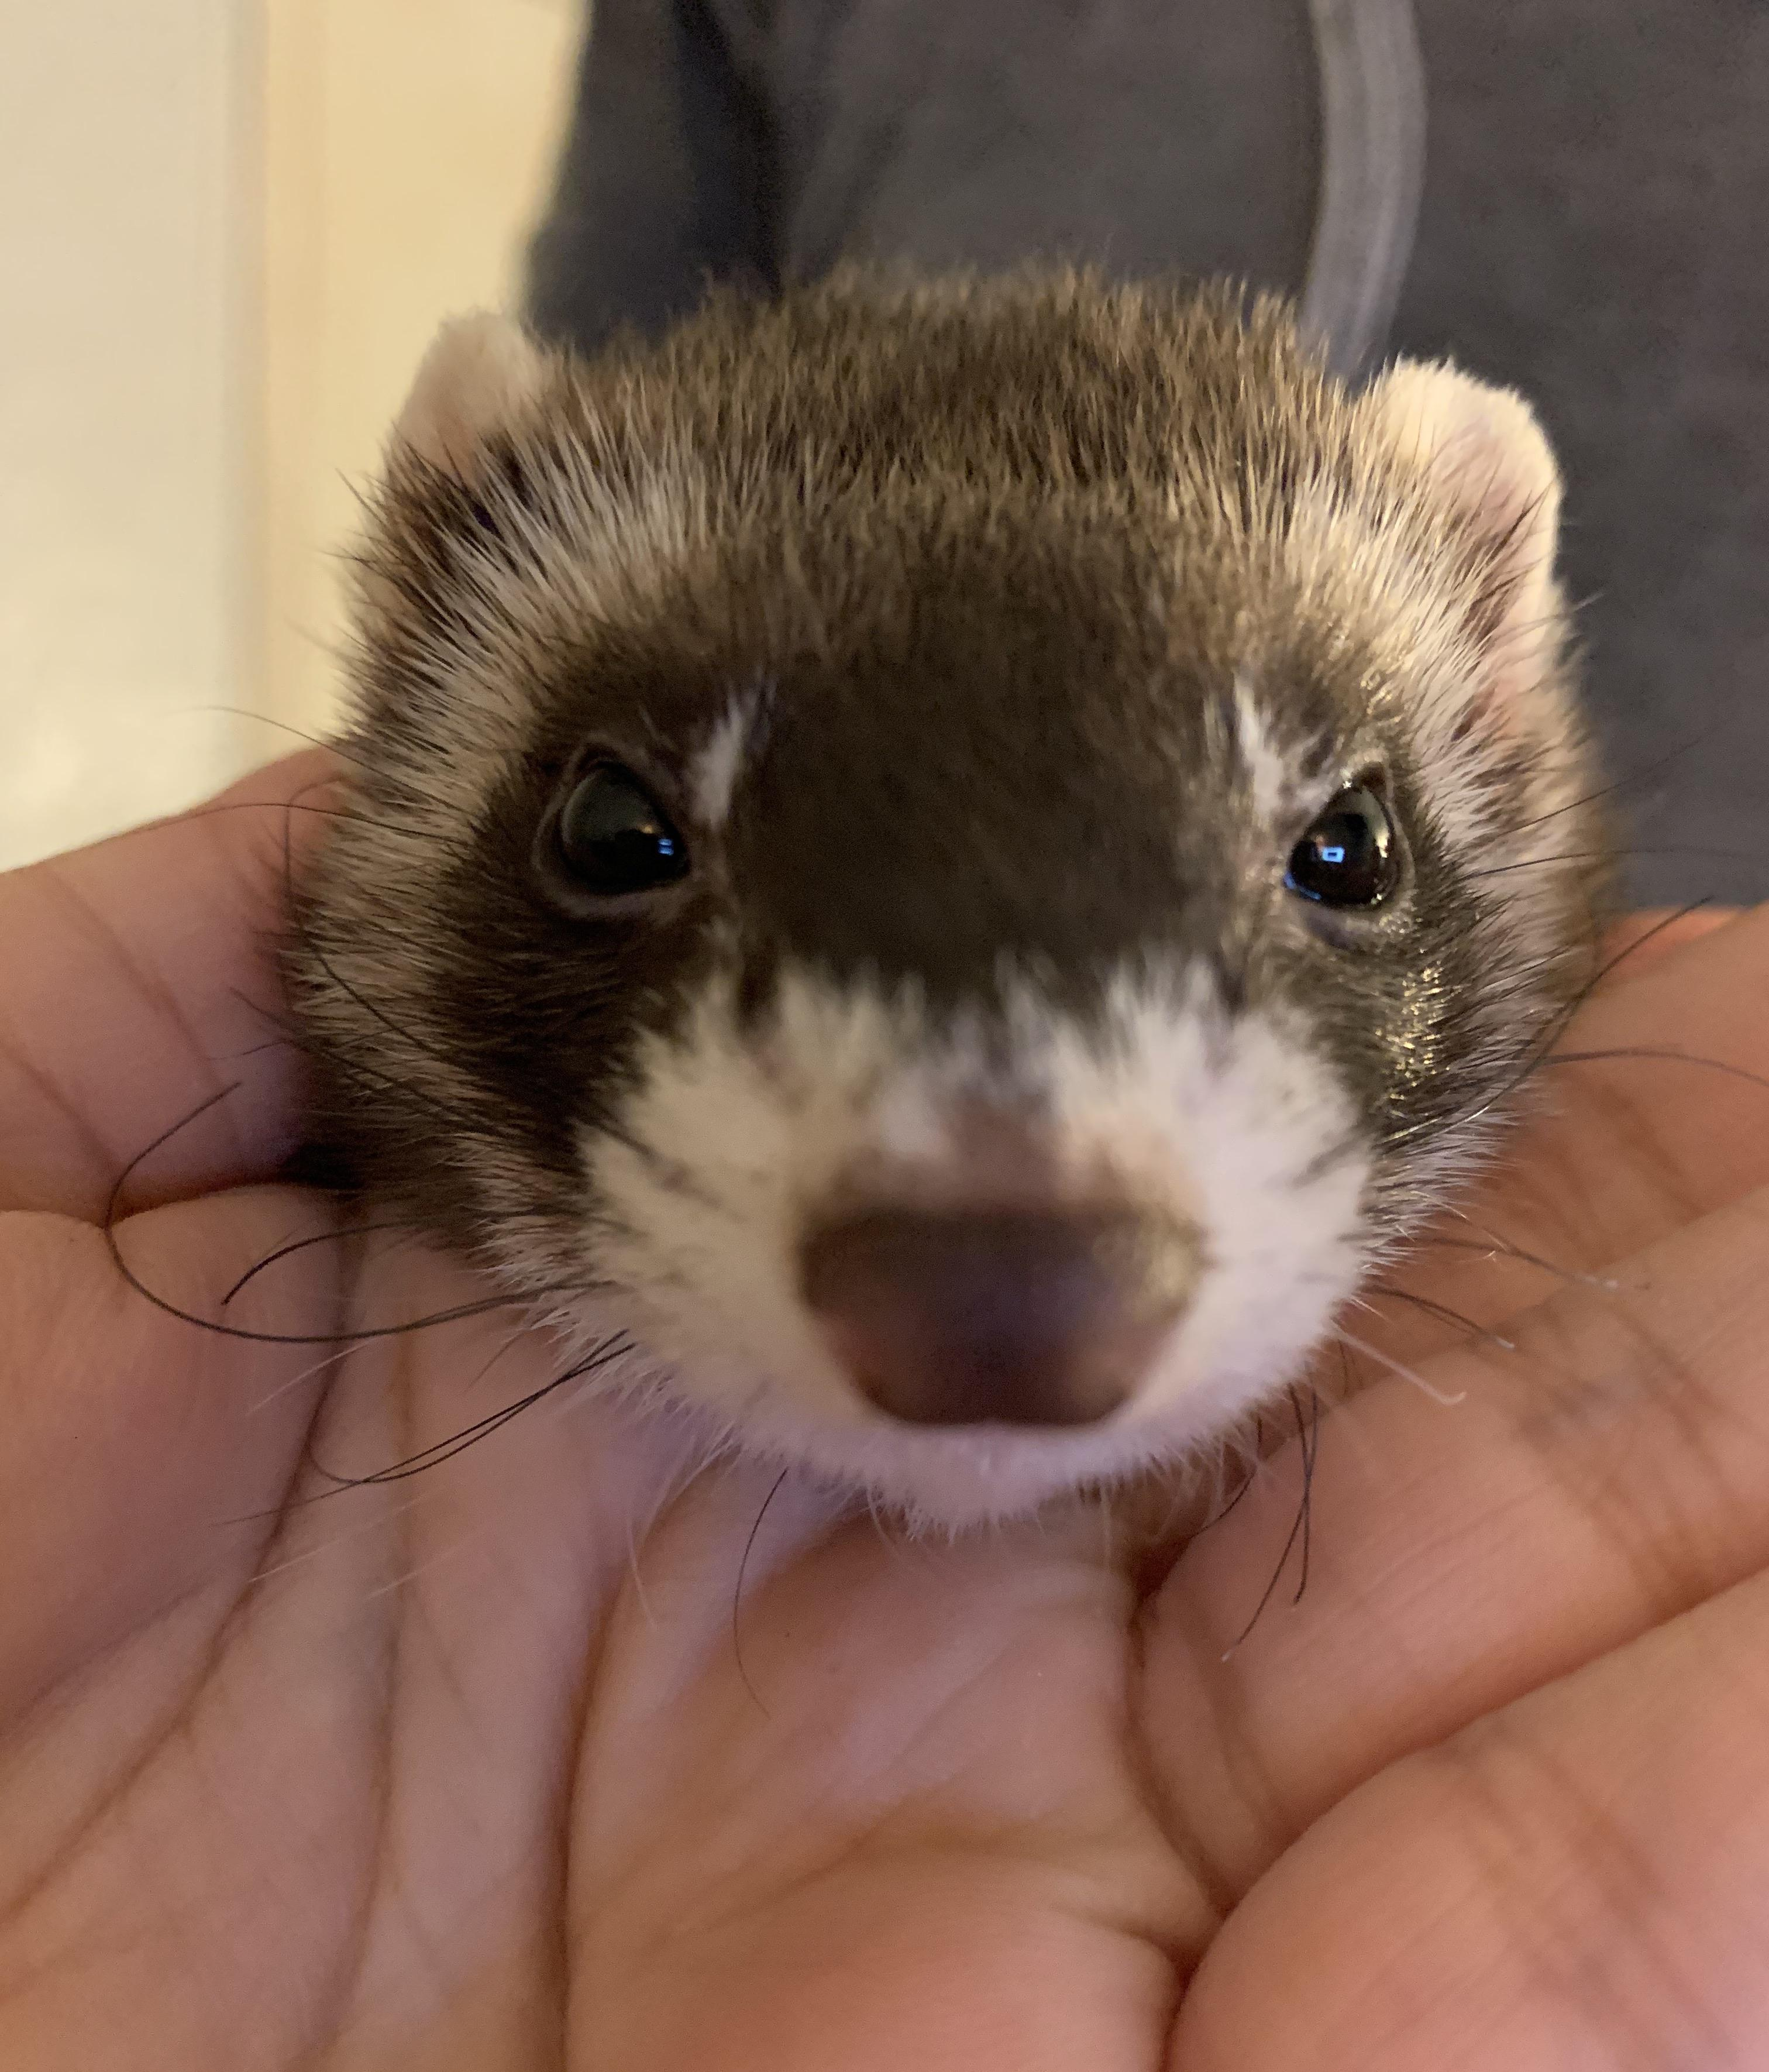Talulah: (330, 265, 1616, 1494)
